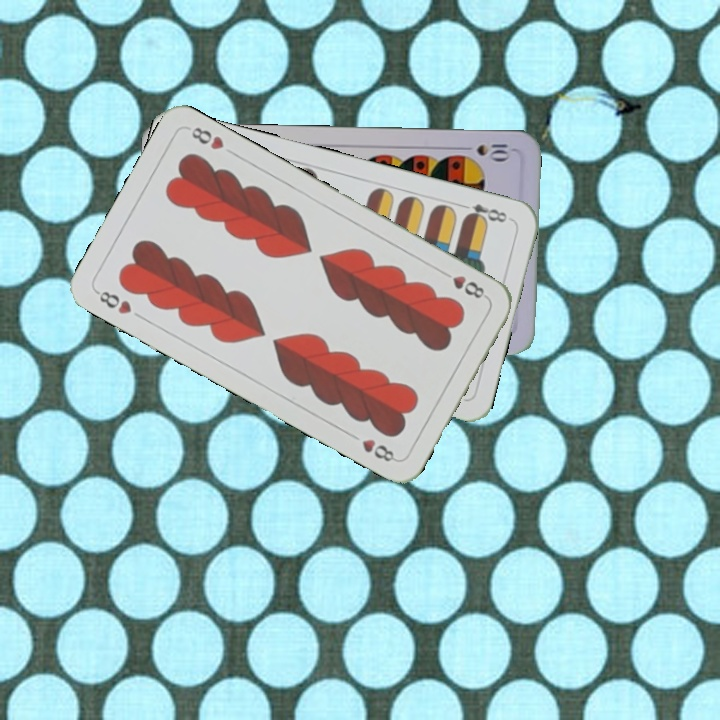E8: (456, 199, 510, 226)
H8: (436, 266, 490, 302), (91, 286, 134, 317)
S10: (456, 139, 513, 162)
